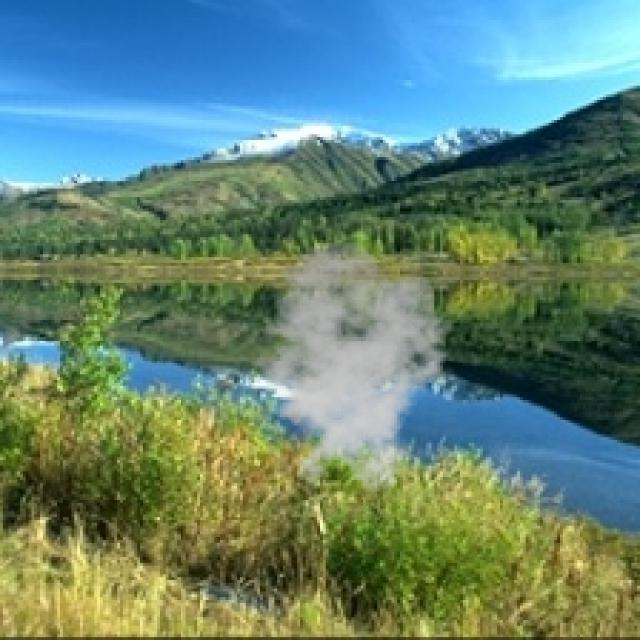smoke: (240, 240, 460, 494)
